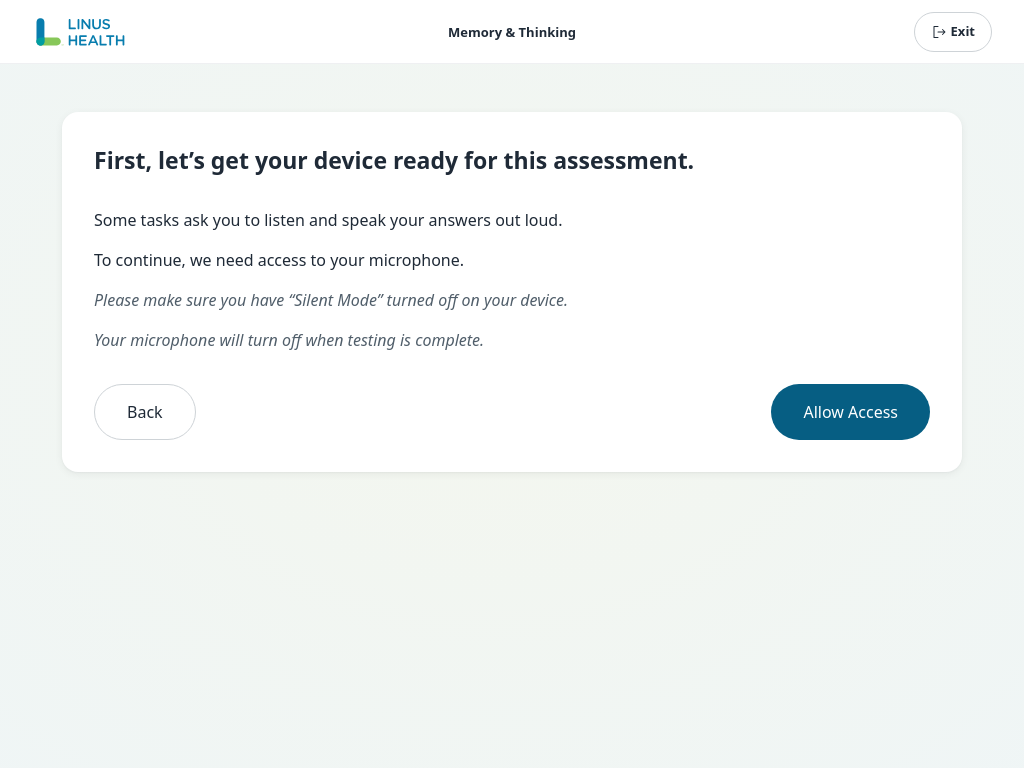
Test: DeviceSetupPage › still advances to the sound test when access is denied
Click the button "Allow Access": (851, 412) [772, 384, 930, 440]
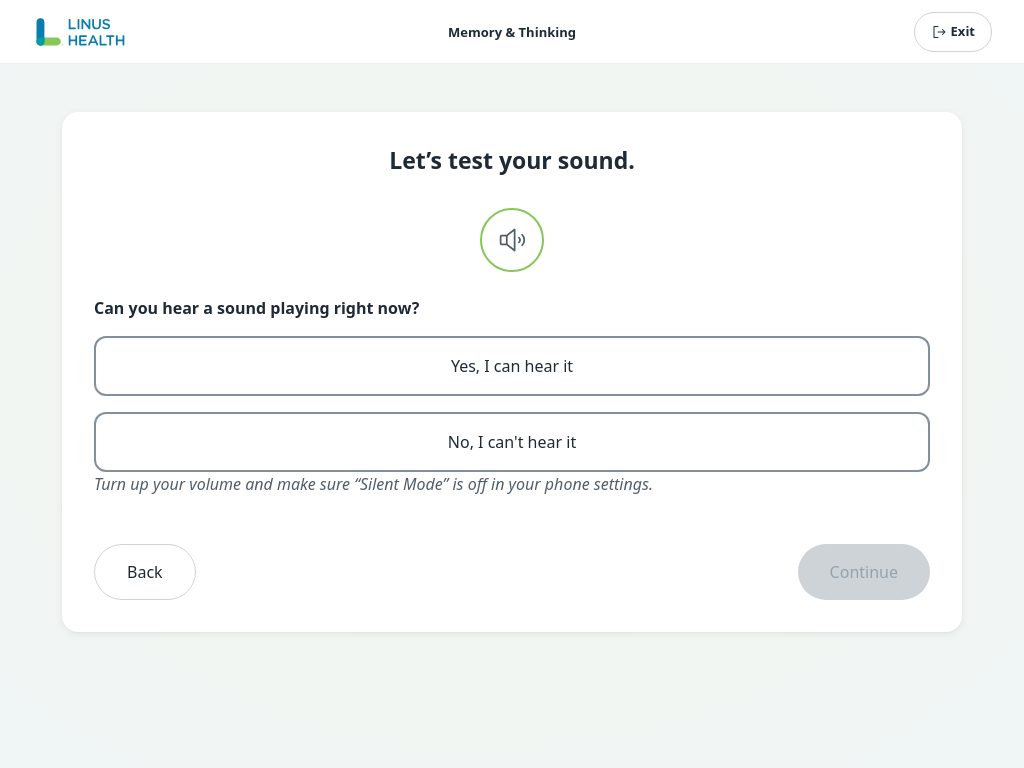
Now the text "Let’s test your sound." is shown, box [389, 144, 635, 176]
